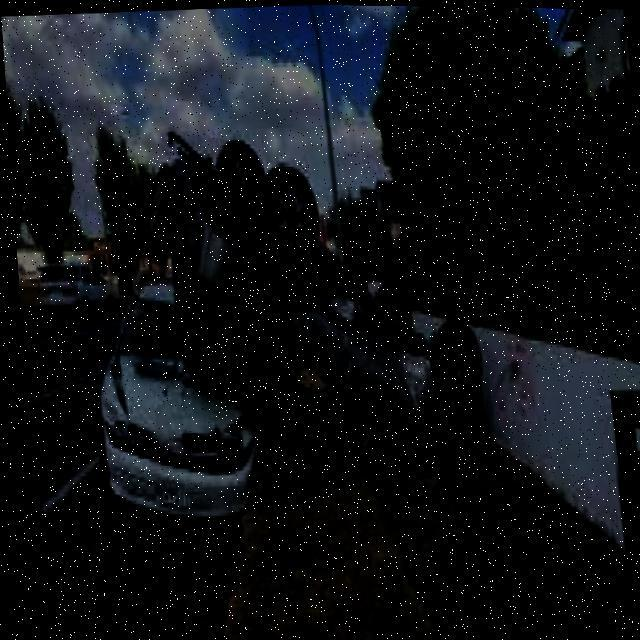Car Accident Detector - v4 Generation1 Exported: (59, 137, 489, 531)
